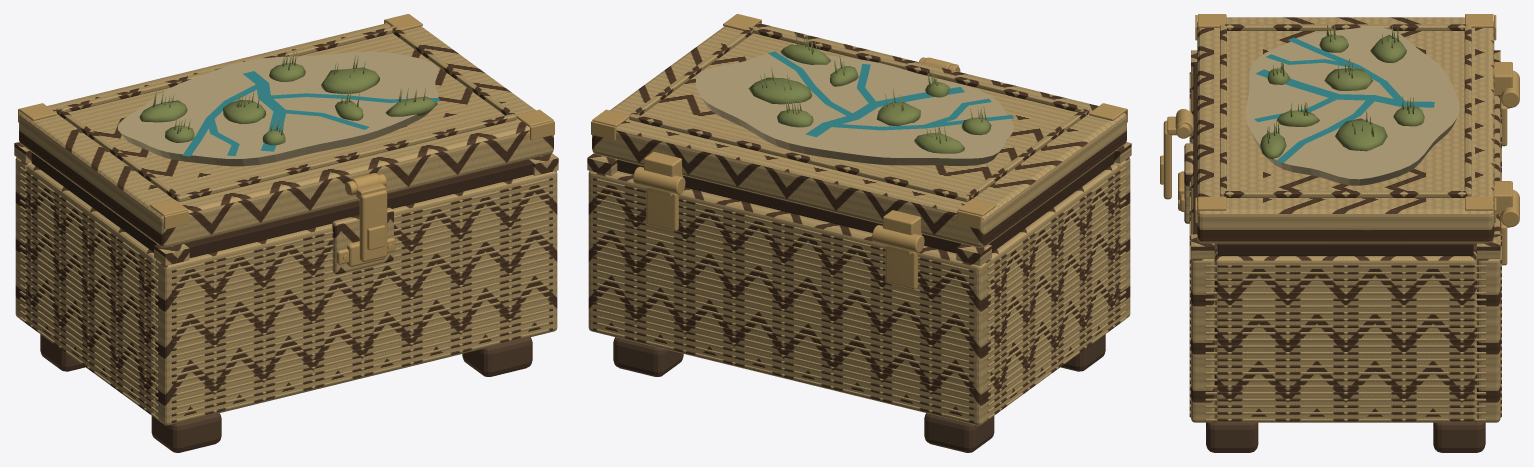
The model's file is botswana.glb.
The picture shows the model from 3 angles, left to right: view 1: azimuth 30°, elevation 25°; view 2: azimuth 150°, elevation 25°; view 3: azimuth 270°, elevation 25°; orthographic projection. The views are drawn at different scales.
Parts seen in each view (by area): view 1: Palm / front rear panel, Lid / polished slab, Delta / sand foundation, Palm / side panel, Seam / long, Lid / woven border long, Foot / woven shoe, Lid / woven border long.001, Foot / woven shoe.002, Palm / front rear panel.001, Latch / lifting hasp, Palm / clasp seat (+37 smaller); view 2: Palm / front rear panel.001, Lid / polished slab, Delta / sand foundation, Palm / side panel, Seam / long.001, Lid / woven border long.001, Lid / woven border long, Foot / woven shoe.001, Foot / woven shoe.003, Palm / front rear panel, Seam / side, Delta / reed island 2 (+41 smaller); view 3: Lid / polished slab, Palm / side panel.001, Delta / sand foundation, Palm / front rear panel.001, Palm / front rear panel, Seam / side.001, Lid / woven border end.001, Foot / woven shoe.003, Foot / woven shoe.002, Lid / woven border end, Lid / woven border long.001, Delta / reed island 2 (+48 smaller).
Part boxes in pixels (<box>): Palm / front rear panel: <box>155,171,557,425</box>; Lid / polished slab: <box>19,23,553,247</box>; Delta / sand foundation: <box>118,51,438,166</box>; Palm / side panel: <box>27,164,156,414</box>; Seam / long: <box>184,159,533,257</box>; Lid / woven border long: <box>176,114,516,201</box>; Foot / woven shoe: <box>151,413,221,452</box>; Lid / woven border long.001: <box>56,26,395,112</box>; Foot / woven shoe.002: <box>462,337,532,376</box>; Palm / front rear panel.001: <box>15,157,31,320</box>; Latch / lifting hasp: <box>359,190,387,261</box>; Palm / clasp seat: <box>332,207,393,274</box>; Palm / front rear panel.001: <box>588,171,990,425</box>; Lid / polished slab: <box>592,23,1126,247</box>; Delta / sand foundation: <box>696,52,1013,165</box>; Palm / side panel: <box>989,164,1118,414</box>; Seam / long.001: <box>617,160,961,253</box>; Lid / woven border long.001: <box>629,114,969,201</box>; Lid / woven border long: <box>750,26,1089,112</box>; Foot / woven shoe.001: <box>924,413,994,452</box>; Foot / woven shoe.003: <box>613,337,683,376</box>; Palm / front rear panel: <box>1114,157,1130,320</box>; Seam / side: <box>988,153,1114,252</box>; Delta / reed island 2: <box>748,77,812,104</box>; Lid / polished slab: <box>1197,17,1494,243</box>; Palm / side panel.001: <box>1214,251,1476,422</box>; Delta / sand foundation: <box>1245,26,1459,185</box>; Palm / front rear panel.001: <box>1477,95,1500,422</box>; Palm / front rear panel: <box>1191,74,1214,422</box>; Seam / side.001: <box>1217,243,1473,255</box>; Lid / woven border end.001: <box>1224,191,1467,197</box>; Foot / woven shoe.003: <box>1433,421,1485,452</box>; Foot / woven shoe.002: <box>1206,421,1258,452</box>; Lid / woven border end: <box>1225,24,1466,30</box>; Lid / woven border long.001: <box>1464,24,1471,196</box>; Delta / reed island 2: <box>1335,118,1387,151</box>.
Size of the model in its own units: 3.75 by 2.53 by 2.88.
Materials: 7 (1 with a texture image).
